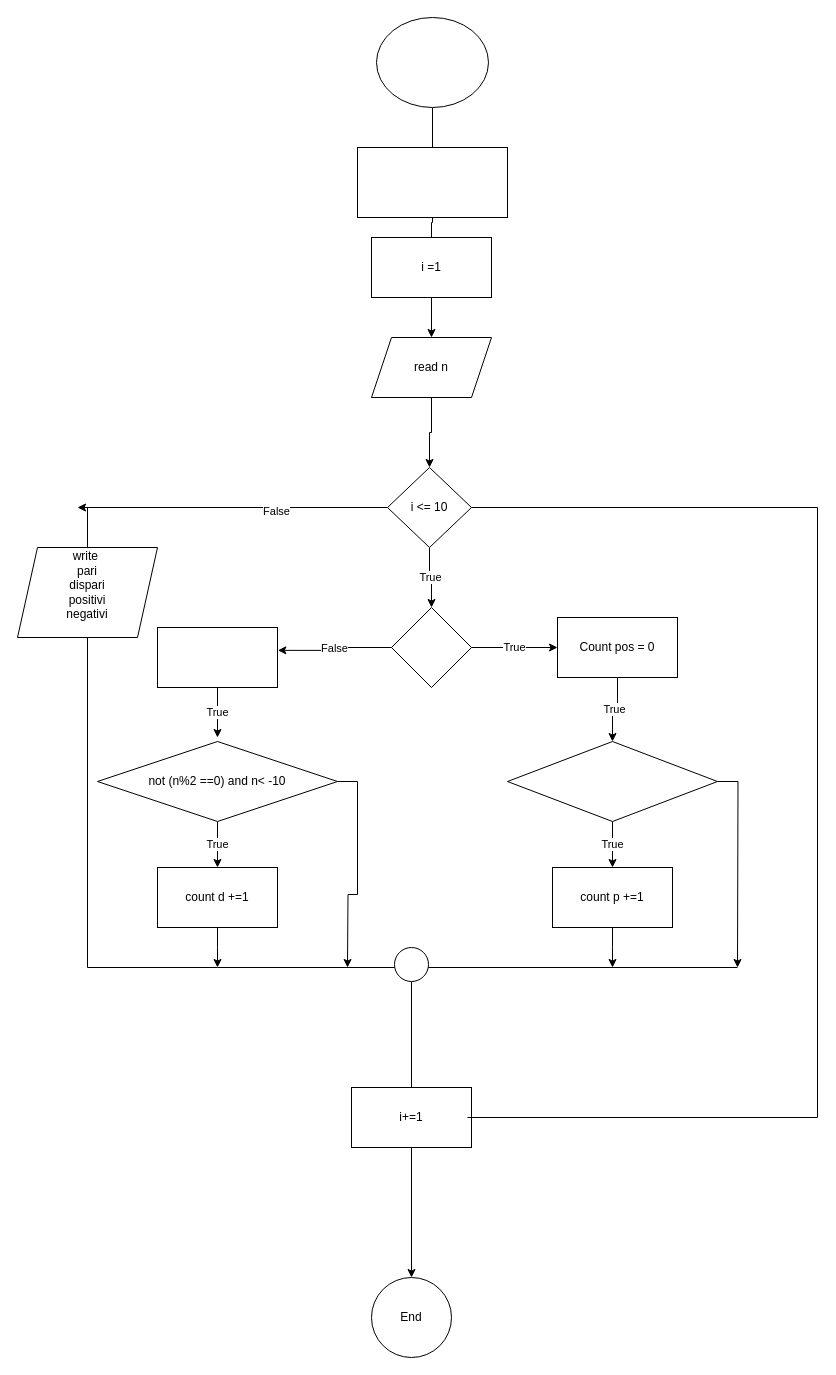
Some shapes in this 836 by 1375 pixel diagram are drawn without their labels. Here are the shapes that lost their labels. From the top down, the centre of each, then its label:
point 432,62: Start
point 432,182: coun neg =0, count pos =0, count pari =0, count disp =0
point 217,657: Count neg =0
point 431,647: n>0
point 612,781: n%2==0 and n>20
